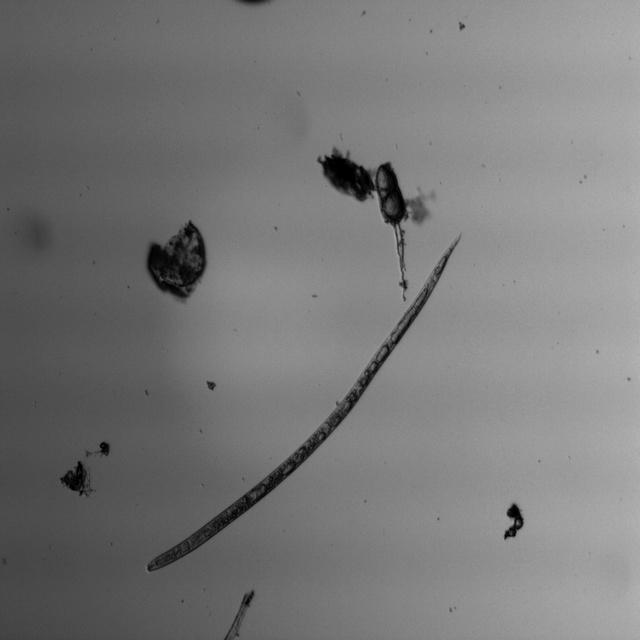Radopholus: (142, 230, 476, 575)
